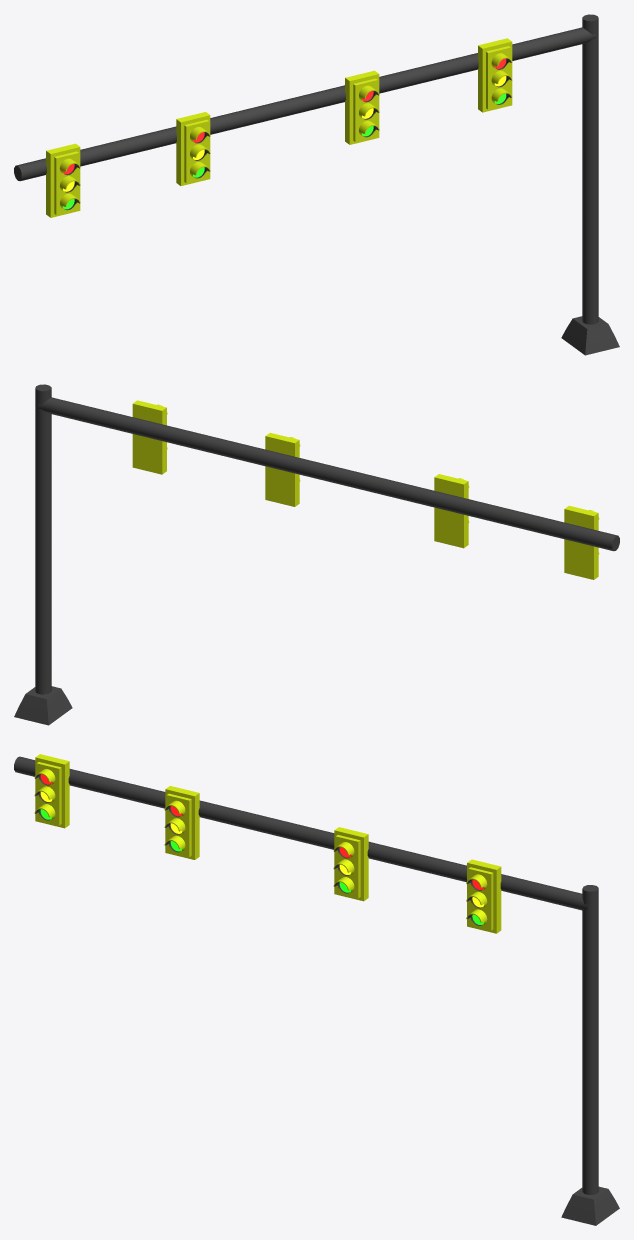
File: Yellow Traffic Light.fbx
The picture shows the model from 3 angles, top to bottom: view 1: azimuth 30°, elevation 25°; view 2: azimuth 150°, elevation 25°; view 3: azimuth 330°, elevation 25°; orthographic projection.
Parts seen in each view (by area): view 1: Circle001; view 2: Circle001; view 3: Circle001.
Boxes of the visible parts, <box> form: Circle001: <box>14,14,619,355</box>; Circle001: <box>14,384,619,725</box>; Circle001: <box>14,754,619,1225</box>.
Size of the model in its own units: 444 by 235 by 35.89.
